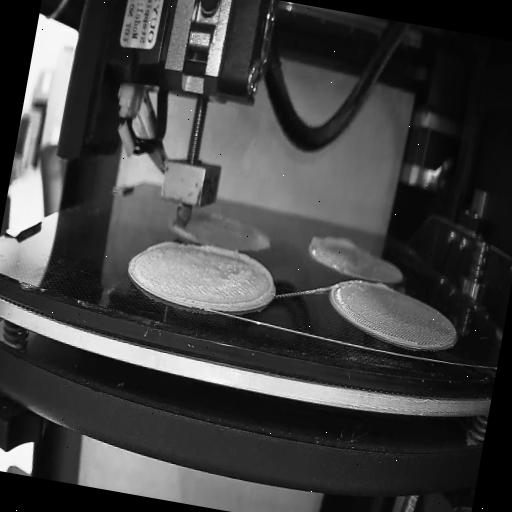over_extrusion: (190, 242, 280, 320), (306, 231, 358, 257), (164, 224, 201, 242), (372, 280, 392, 294)
